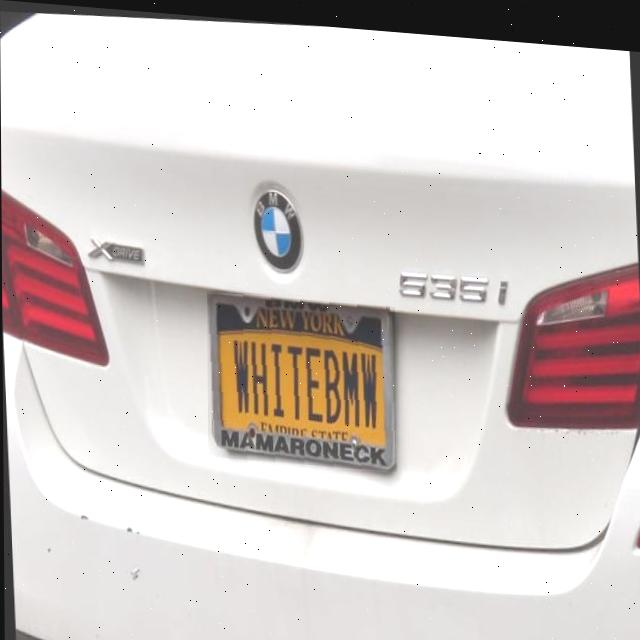LicensePlate: (207, 289, 396, 465)
